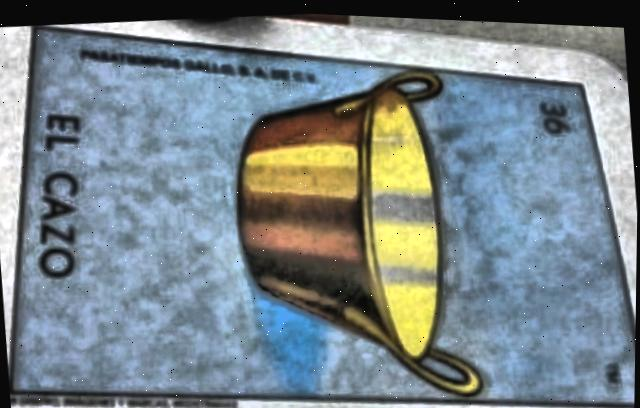El Cazo: (12, 27, 636, 401)
